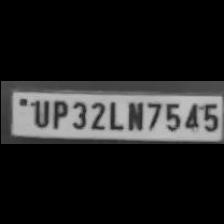2: (87, 98, 105, 130)
3: (68, 96, 86, 130)
4: (182, 99, 198, 130)
5: (160, 99, 180, 131), (199, 100, 219, 132)
7: (143, 98, 161, 130)
L: (105, 98, 123, 130)
N: (122, 97, 144, 130)
P: (47, 96, 67, 128)
U: (28, 97, 48, 127)
